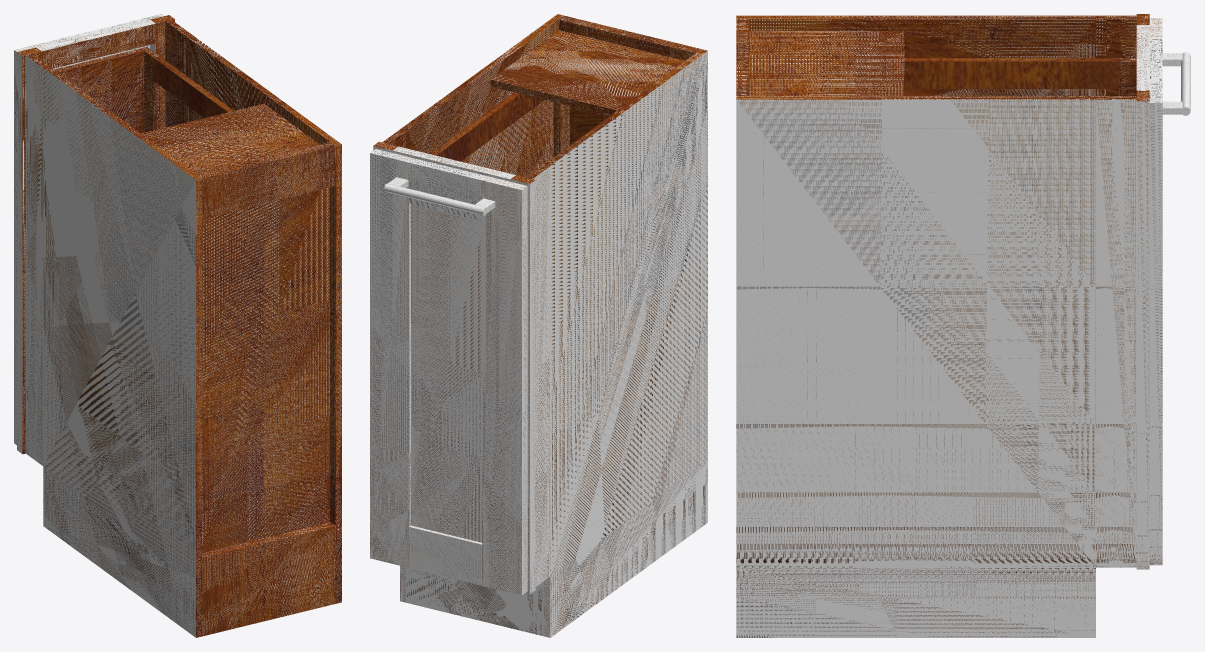
3 views of the same model, side by side, from view 1: azimuth 30°, elevation 25°; view 2: azimuth 150°, elevation 25°; view 3: azimuth 270°, elevation 25° (orthographic). The views are drawn at different scales.
Parts seen in each view (by area): view 1: mesh7_mesh7-geometry, mesh4_mesh4-geometry, mesh12_mesh12-geometry, mesh8_mesh8-geometry, mesh10_mesh10-geometry, mesh6_mesh6-geometry, mesh14_mesh14-geometry, mesh3_mesh3-geometry, mesh2_mesh2-geometry, mesh18_mesh18-geometry, mesh5_mesh5-geometry, mesh15_mesh15-geometry (+3 smaller); view 2: mesh7_mesh7-geometry, mesh26_mesh26-geometry, mesh22_mesh22-geometry, mesh24_mesh24-geometry, mesh8_mesh8-geometry, mesh14_mesh14-geometry, mesh10_mesh10-geometry, mesh6_mesh6-geometry, mesh13_mesh13-geometry, mesh2_mesh2-geometry, mesh23_mesh23-geometry, mesh21_mesh21-geometry (+6 smaller); view 3: mesh10_mesh10-geometry, mesh11_mesh11-geometry, mesh9_mesh9-geometry, mesh7_mesh7-geometry, mesh14_mesh14-geometry, mesh2_mesh2-geometry, mesh24_mesh24-geometry, mesh15_mesh15-geometry, mesh6_mesh6-geometry, mesh3_mesh3-geometry, mesh5_mesh5-geometry, mesh17_mesh17-geometry.
Part boxes in pixels (x1=…): mesh7_mesh7-geometry: x1=43, y1=66, x2=202, y2=577; mesh4_mesh4-geometry: x1=202, y1=187, x2=329, y2=552; mesh12_mesh12-geometry: x1=202, y1=522, x2=335, y2=636; mesh8_mesh8-geometry: x1=43, y1=466, x2=202, y2=637; mesh10_mesh10-geometry: x1=182, y1=32, x2=341, y2=543; mesh6_mesh6-geometry: x1=25, y1=54, x2=49, y2=465; mesh14_mesh14-geometry: x1=141, y1=103, x2=319, y2=174; mesh3_mesh3-geometry: x1=197, y1=142, x2=335, y2=218; mesh2_mesh2-geometry: x1=17, y1=15, x2=174, y2=454; mesh18_mesh18-geometry: x1=54, y1=48, x2=144, y2=133; mesh5_mesh5-geometry: x1=36, y1=19, x2=155, y2=68; mesh15_mesh15-geometry: x1=153, y1=56, x2=233, y2=117; mesh7_mesh7-geometry: x1=544, y1=49, x2=707, y2=575; mesh26_mesh26-geometry: x1=411, y1=204, x2=482, y2=542; mesh22_mesh22-geometry: x1=482, y1=176, x2=527, y2=595; mesh24_mesh24-geometry: x1=370, y1=149, x2=414, y2=567; mesh8_mesh8-geometry: x1=544, y1=461, x2=707, y2=637; mesh14_mesh14-geometry: x1=490, y1=30, x2=684, y2=115; mesh10_mesh10-geometry: x1=400, y1=14, x2=563, y2=177; mesh6_mesh6-geometry: x1=526, y1=164, x2=550, y2=586; mesh13_mesh13-geometry: x1=406, y1=567, x2=543, y2=636; mesh2_mesh2-geometry: x1=373, y1=141, x2=535, y2=594; mesh23_mesh23-geometry: x1=409, y1=525, x2=482, y2=585; mesh21_mesh21-geometry: x1=409, y1=158, x2=487, y2=221; mesh10_mesh10-geometry: x1=736, y1=96, x2=1095, y2=567; mesh11_mesh11-geometry: x1=736, y1=567, x2=1095, y2=637; mesh9_mesh9-geometry: x1=1096, y1=96, x2=1136, y2=567; mesh7_mesh7-geometry: x1=736, y1=15, x2=1095, y2=95; mesh14_mesh14-geometry: x1=749, y1=31, x2=904, y2=95; mesh2_mesh2-geometry: x1=1136, y1=14, x2=1149, y2=569; mesh24_mesh24-geometry: x1=1149, y1=81, x2=1162, y2=565; mesh15_mesh15-geometry: x1=904, y1=58, x2=1119, y2=88; mesh6_mesh6-geometry: x1=1096, y1=15, x2=1136, y2=95; mesh3_mesh3-geometry: x1=736, y1=19, x2=749, y2=95; mesh5_mesh5-geometry: x1=1136, y1=25, x2=1149, y2=90; mesh17_mesh17-geometry: x1=1119, y1=58, x2=1136, y2=95.
Bounding box in the file's own units: 0.2663 × 0.7657 × 0.5854.
